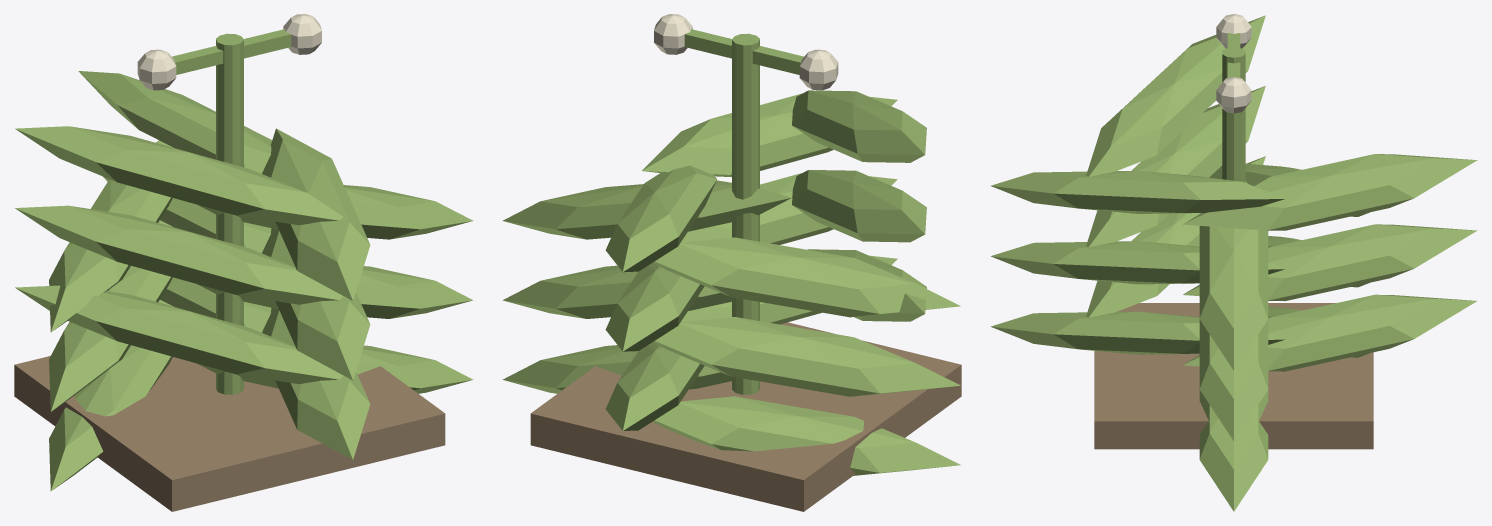
File: cozy-farm-and-homestead-potato-mature-92cfca3b__19384.glb
3 renders of one model, left to right at view 1: azimuth 30°, elevation 25°; view 2: azimuth 150°, elevation 25°; view 3: azimuth 270°, elevation 25°, orthographic. The views are drawn at different scales.
Visible parts, largest first — view 1: potato-mature; view 2: potato-mature; view 3: potato-mature.
Part boxes in pixels (x1,y1,x2,y2): potato-mature: [14, 14, 473, 511]; potato-mature: [502, 14, 961, 511]; potato-mature: [990, 14, 1477, 511].
Size of the model in its own units: 0.726 by 0.641 by 0.7846.
